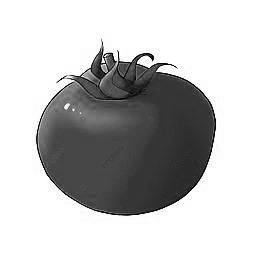bukan telur: (38, 37, 216, 215)
